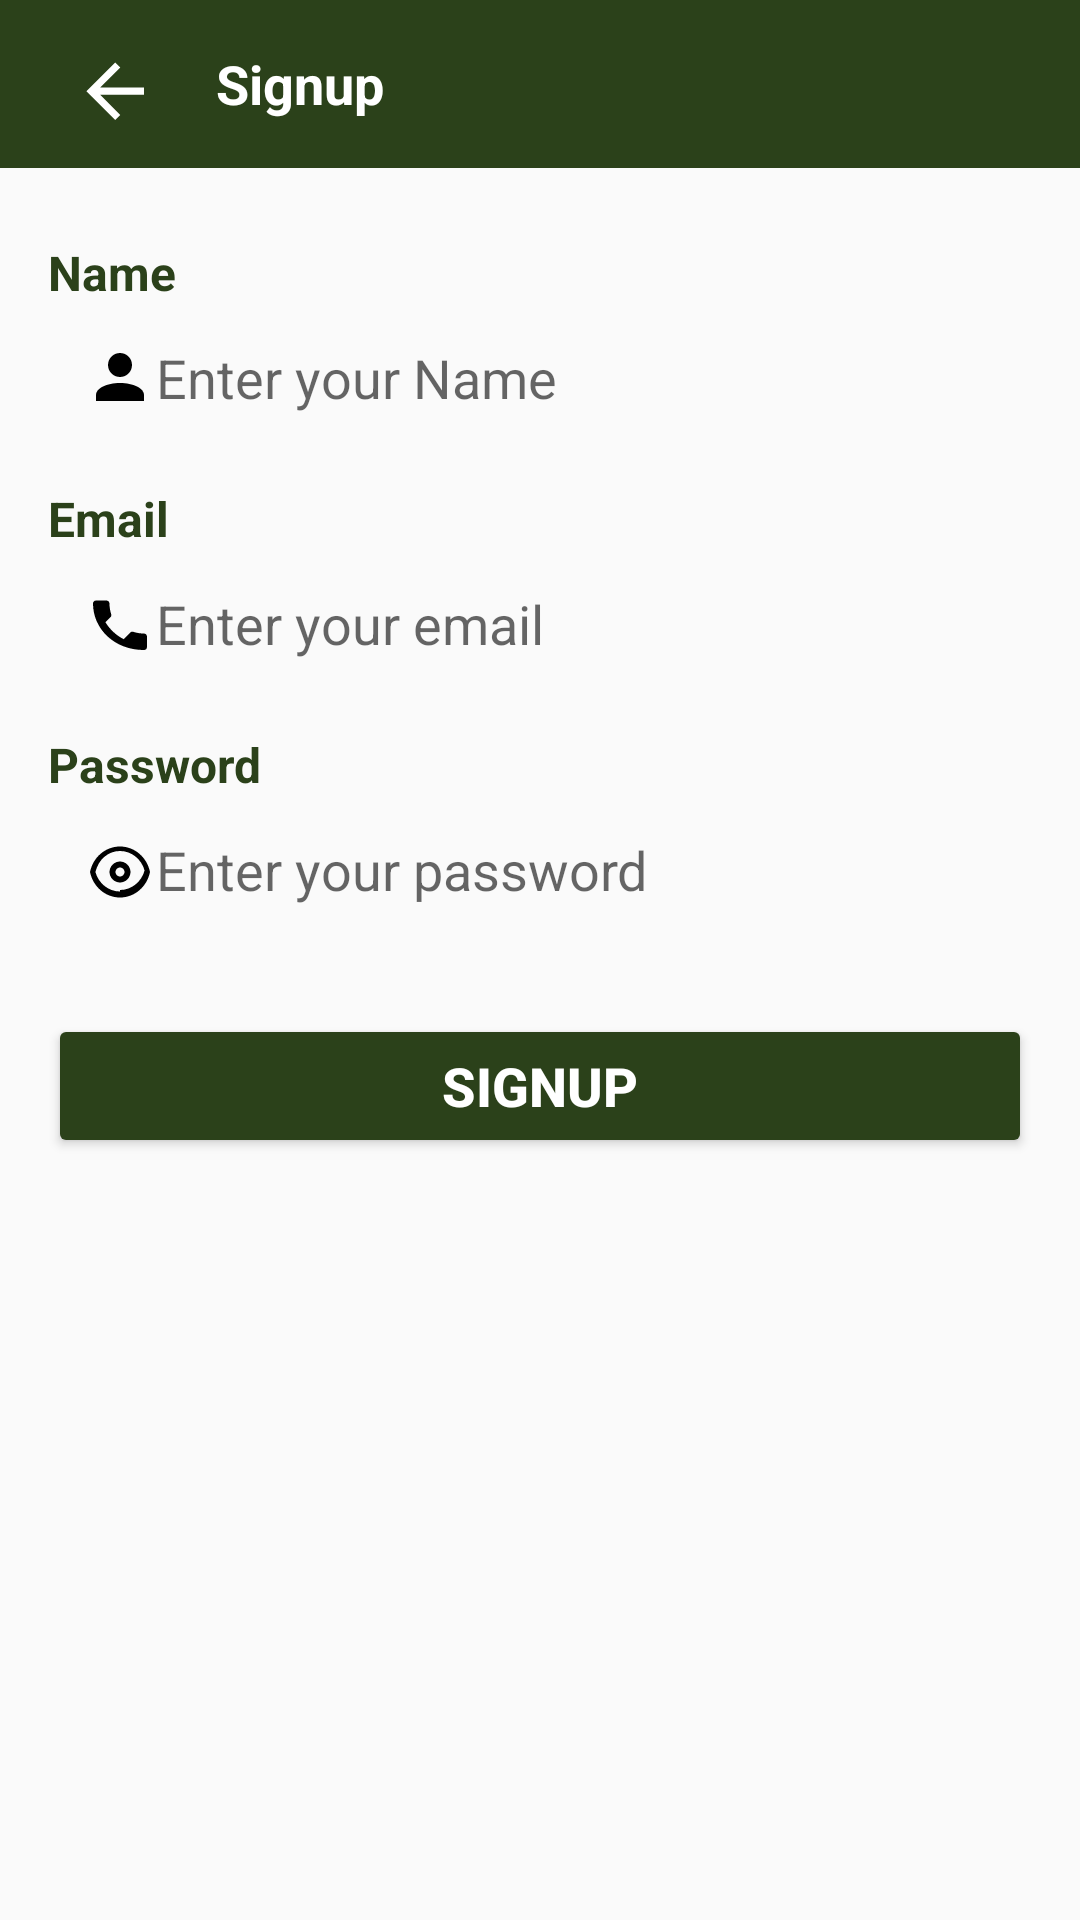

Screen size 1080w x 1920h. Icon name, then its box in pixels as rect(x1, y1, x2, y2):
back: rect(86, 62, 144, 120)
